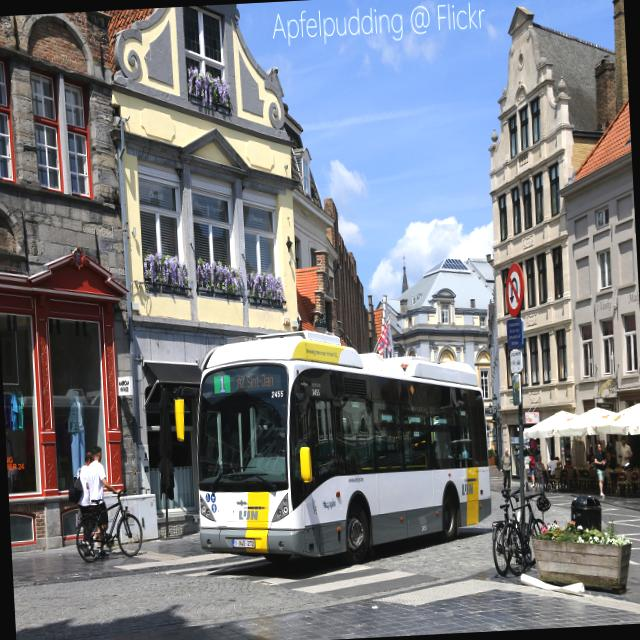bus-number: (214, 375, 231, 394)
